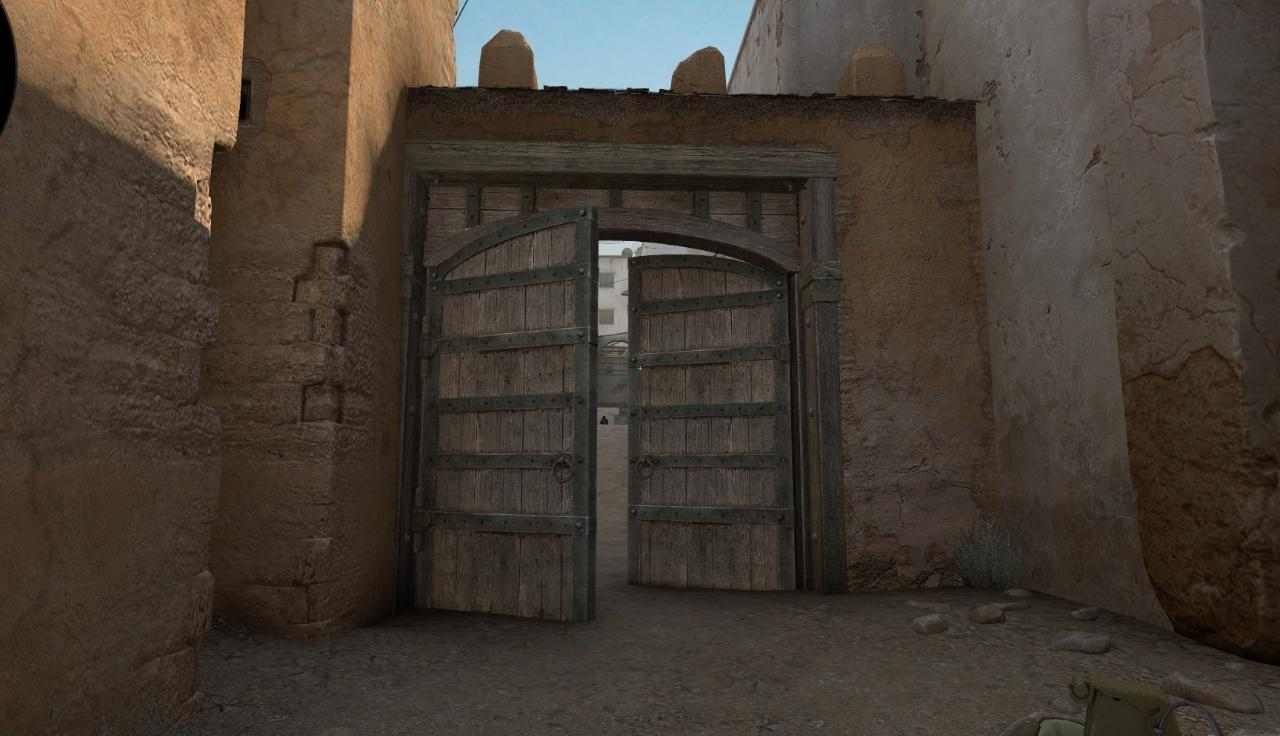tt: (600, 416, 608, 425)
tthead: (603, 416, 605, 419)
